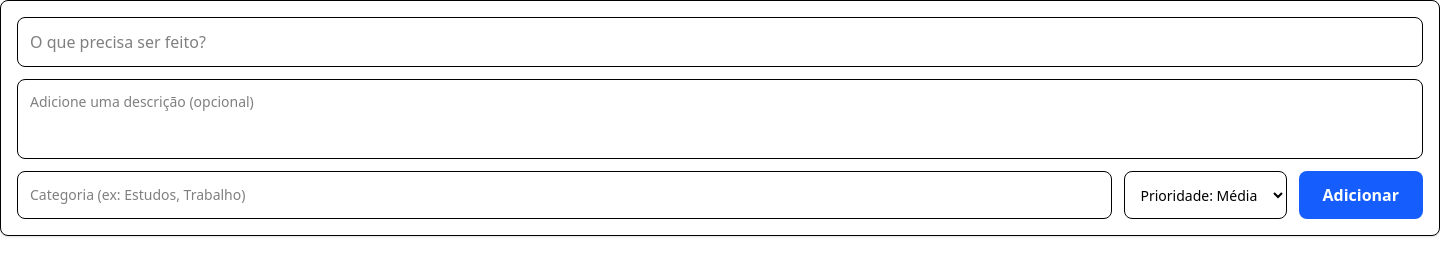
AddTaskForm › deve exibir mensagem de erro se tentar enviar sem preencher o título
Click the button "Adicionar" at (1361,195), box [1298, 171, 1423, 219]
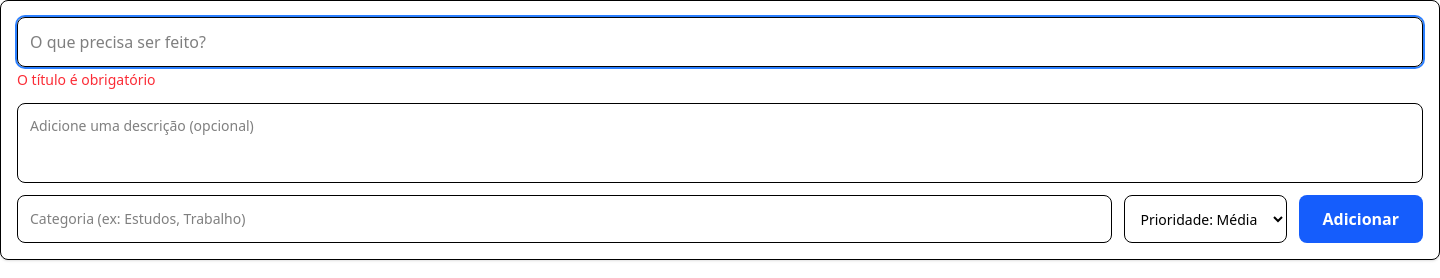
Expected: the text "O título é obrigatório" is shown, [17, 70, 156, 89]
